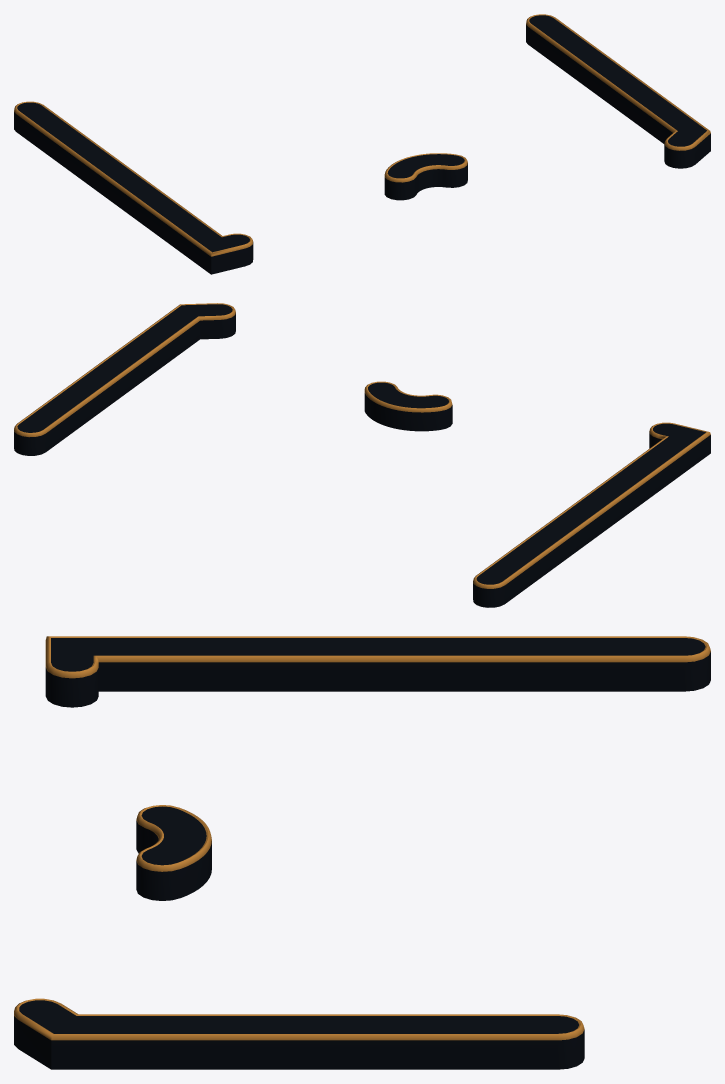
File: carnival-walls.dae
3 views of the same model, one above another, from view 1: azimuth 30°, elevation 25°; view 2: azimuth 150°, elevation 25°; view 3: azimuth 270°, elevation 25° (orthographic). The views are drawn at different scales.
Parts seen in each view (by area): view 1: cabinet_shell, accent; view 2: cabinet_shell, accent; view 3: cabinet_shell, accent.
Boxes of the visible parts, x1,y1,x2,y2 form: cabinet_shell: [14, 15, 710, 274]; accent: [14, 14, 710, 256]; cabinet_shell: [14, 304, 710, 607]; accent: [14, 303, 710, 588]; cabinet_shell: [14, 638, 710, 1069]; accent: [14, 636, 710, 1040].
Size of the model in its own units: 0.75 by 0.03 by 0.5516.
